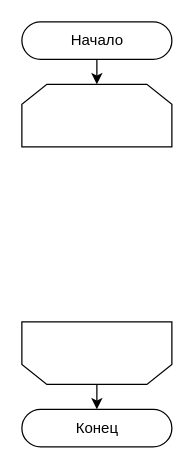
Image size: 194x469. Some labels were removed from this diagram. The box of each missing label's shape, as (x1, y1, x2, y2) in pixels:
Следующий order: (21, 321, 172, 384)
Цикл по order по orders: (21, 83, 172, 147)
